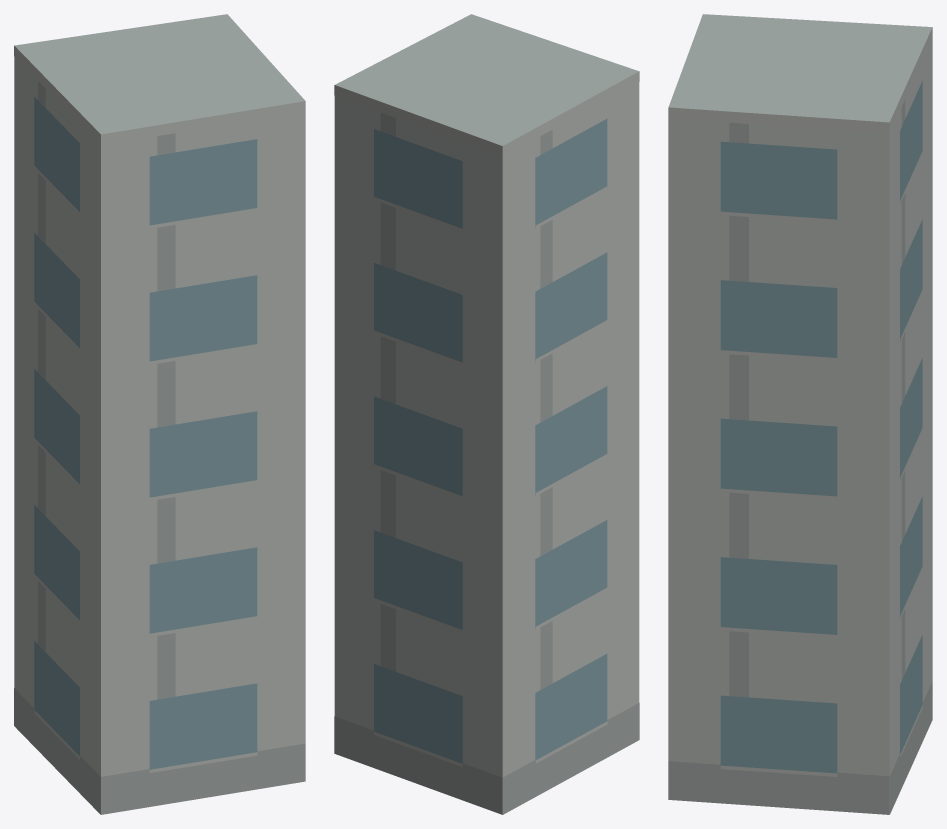
Rendered from survey-upis-32697097.glb.
3 renders of one model, left to right at view 1: azimuth 30°, elevation 25°; view 2: azimuth 150°, elevation 25°; view 3: azimuth 270°, elevation 25°, orthographic. The views are drawn at different scales.
Visible parts, largest first — view 1: survey-upis-32697097.tmp; view 2: survey-upis-32697097.tmp; view 3: survey-upis-32697097.tmp.
Part boxes in pixels (x1,y1,x2,y2): survey-upis-32697097.tmp: [14, 14, 305, 814]; survey-upis-32697097.tmp: [334, 14, 639, 814]; survey-upis-32697097.tmp: [668, 14, 932, 814].
Bounding box in the file's own units: 5.13 × 15.25 × 5.28.
